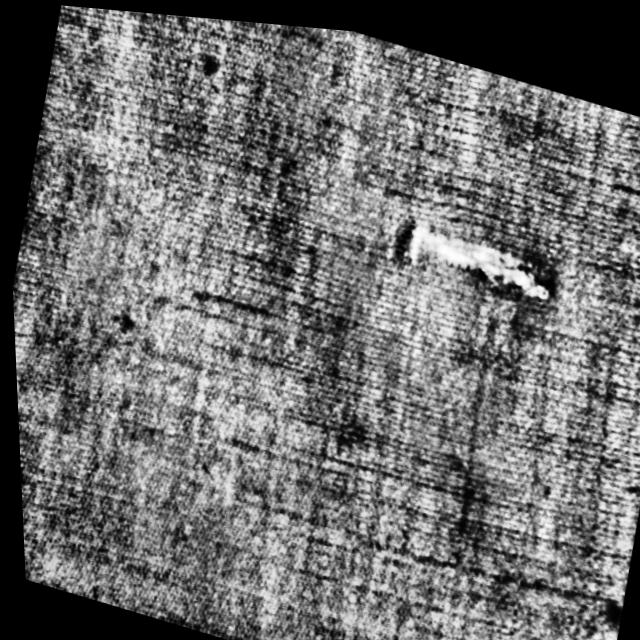Hole: (390, 178, 570, 327)
